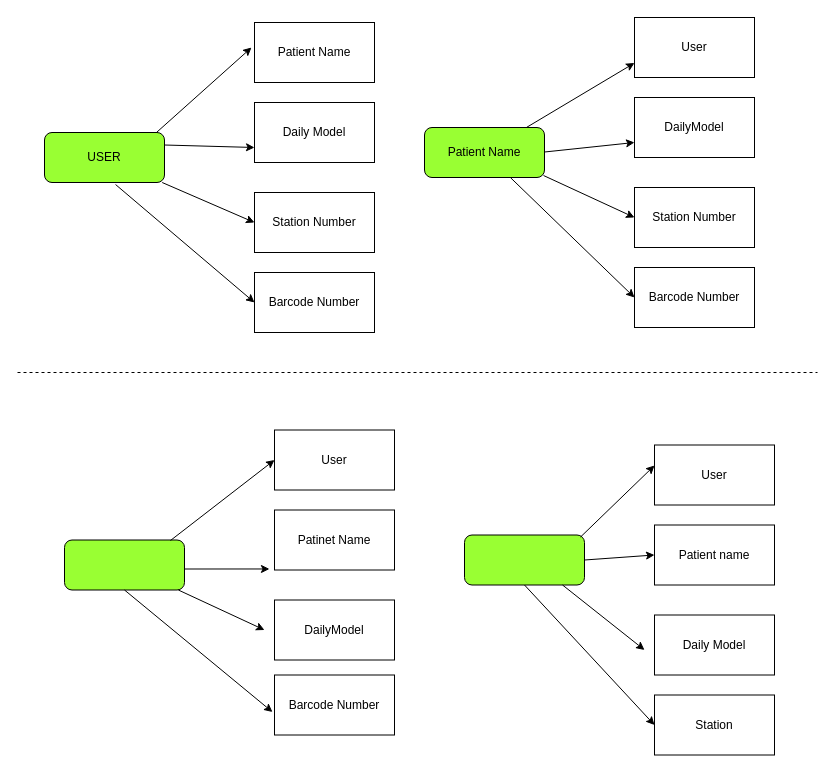
The diagram is 836 pixels wide and 773 high, and some of its shapes have lost their labels. Each missing label, with the centre of its shape:
"Barcode" goes at (x=524, y=559).
"Staion Number" goes at (x=124, y=564).
